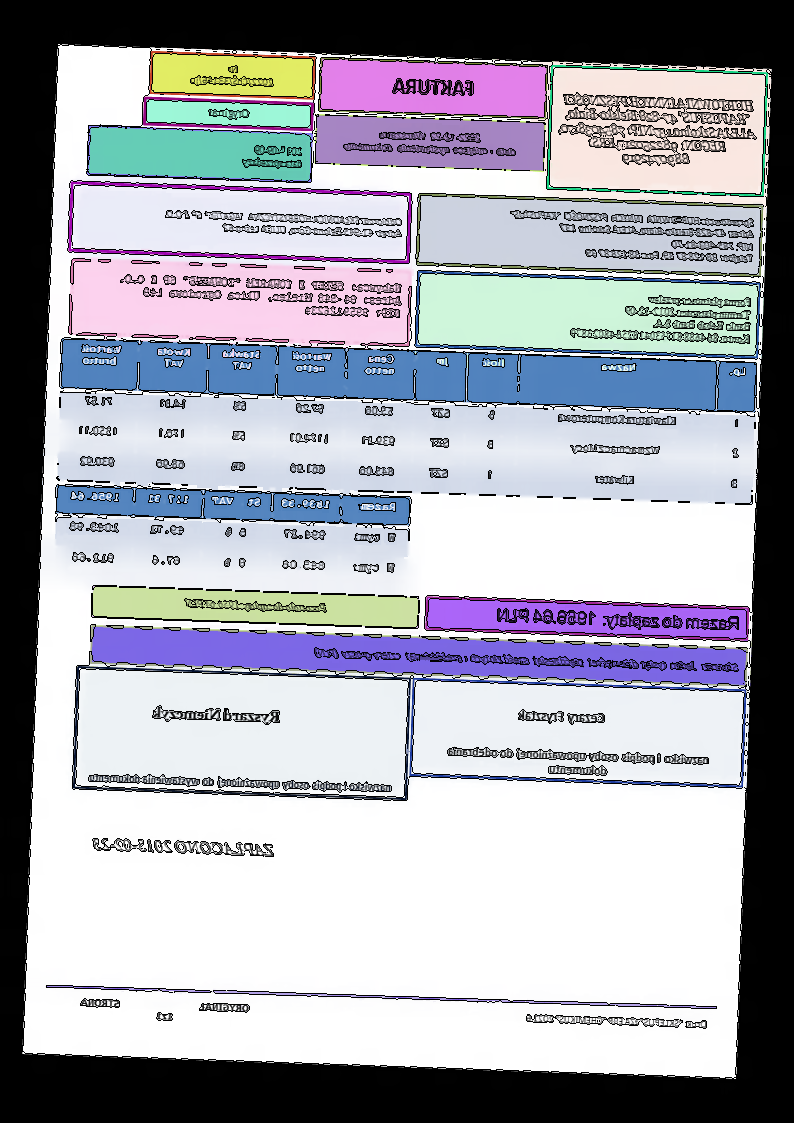Table: (56, 336, 759, 506), (52, 484, 412, 588)
TextBox: (554, 91, 759, 171), (507, 208, 757, 266), (116, 271, 404, 320), (312, 645, 740, 676), (568, 289, 753, 346), (445, 744, 713, 779), (163, 205, 405, 240), (88, 770, 394, 796), (496, 605, 742, 635), (341, 127, 517, 159), (78, 996, 253, 1026), (91, 835, 277, 859), (524, 1012, 709, 1031), (151, 703, 281, 725), (182, 596, 329, 614), (188, 62, 276, 90), (391, 75, 476, 99), (241, 142, 305, 171), (517, 708, 606, 726), (207, 105, 251, 121)
